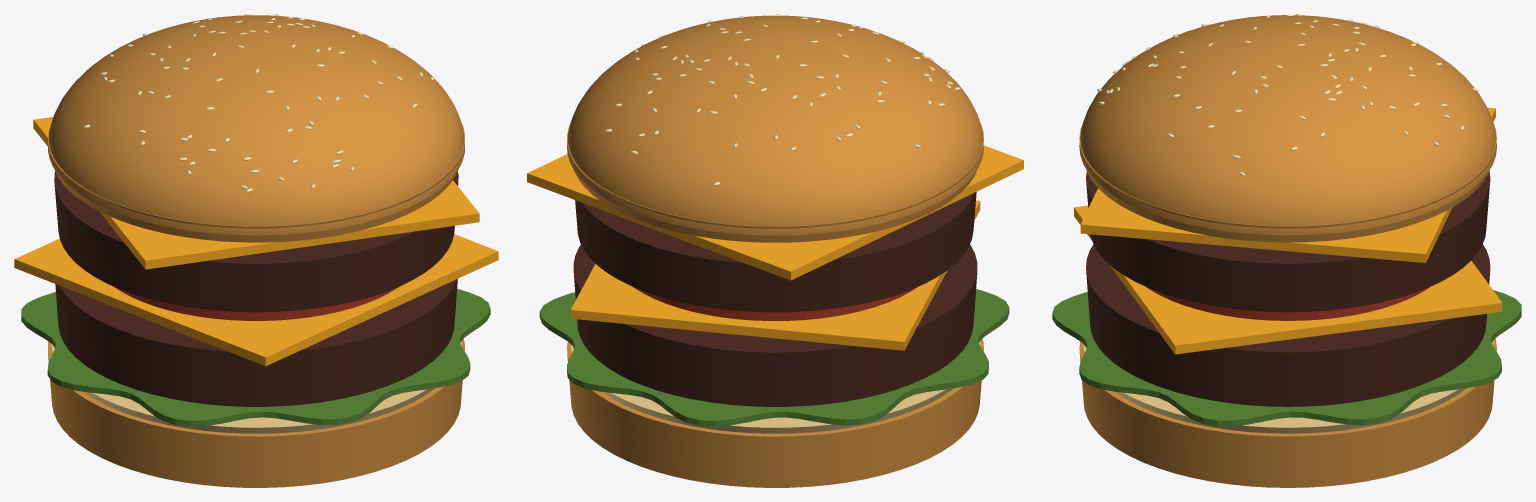
File: double-fire.glb
The picture shows the model from 3 angles, left to right: view 1: azimuth 30°, elevation 25°; view 2: azimuth 150°, elevation 25°; view 3: azimuth 270°, elevation 25°; orthographic projection.
Size of the model in its own units: 0.1426 by 0.1194 by 0.1438.
